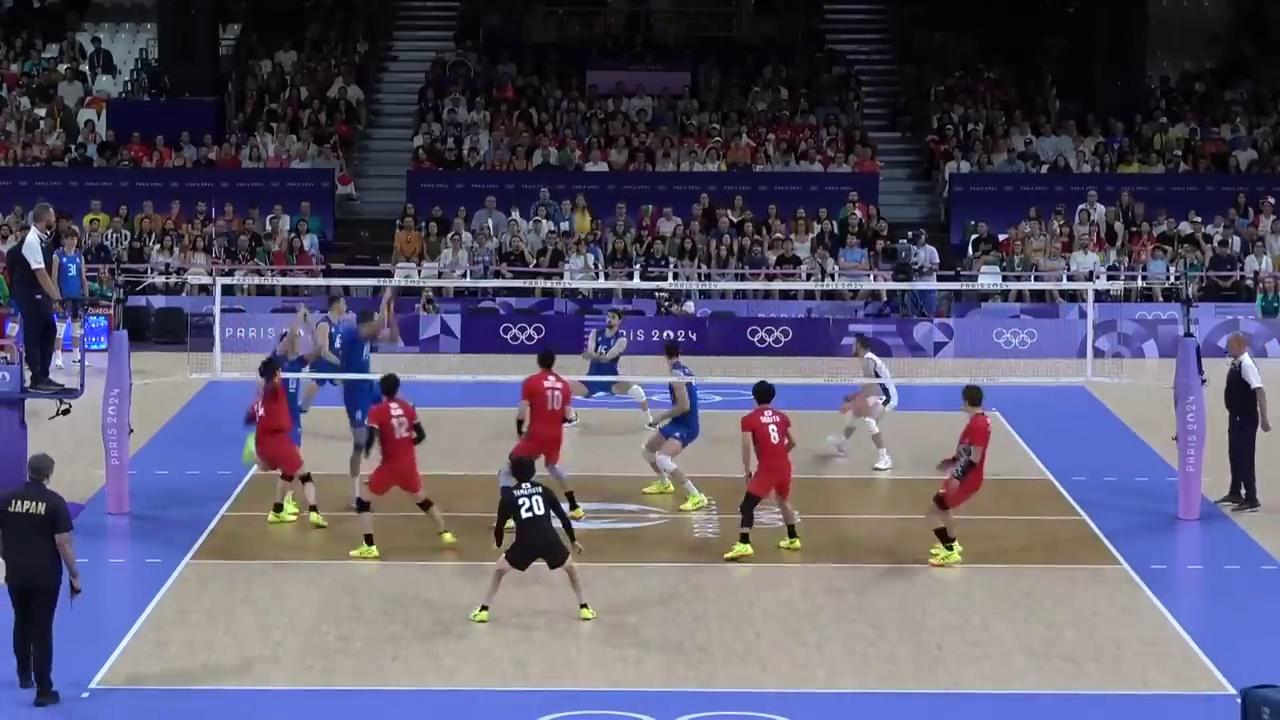ball: (573, 208, 590, 234)
